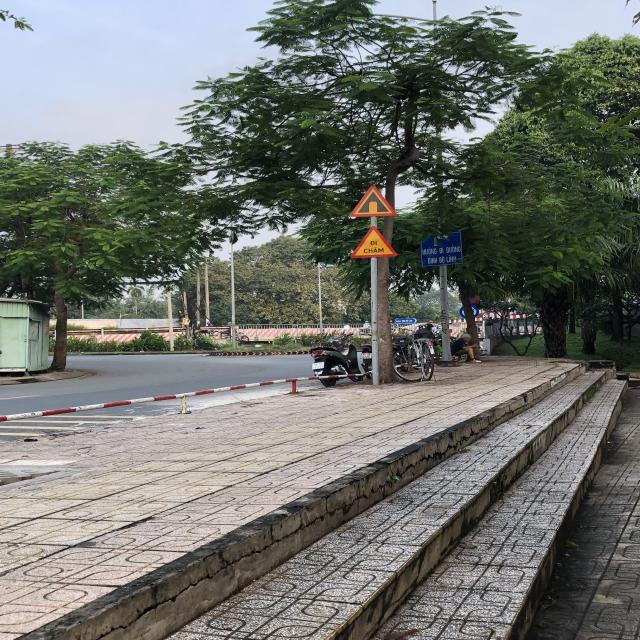Bien bao di cham: (347, 226, 398, 260)
